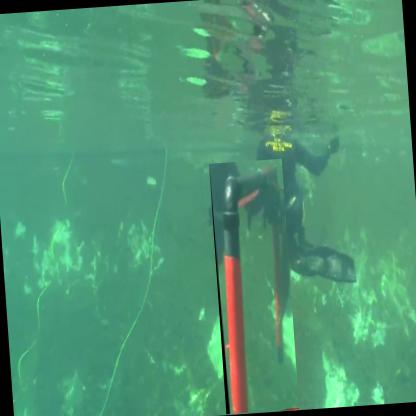gate: (210, 160, 301, 416)
